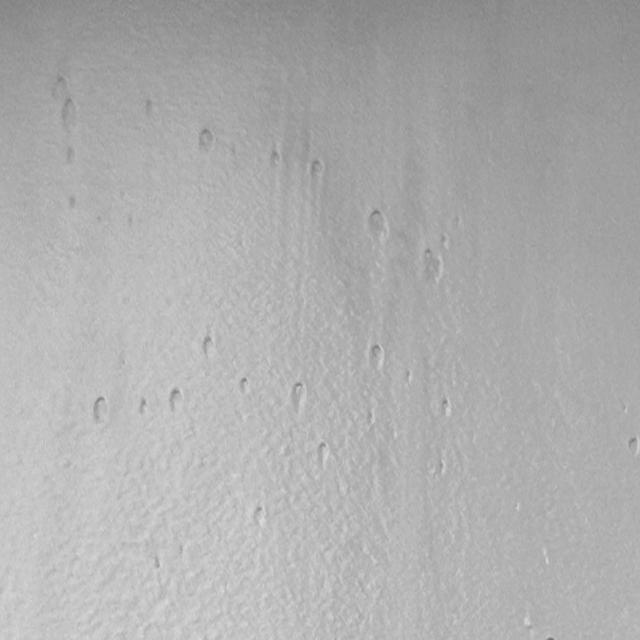pin holes: (365, 209, 390, 244), (419, 249, 444, 282), (89, 394, 113, 427), (286, 382, 308, 414), (58, 100, 79, 133), (197, 127, 218, 155), (166, 386, 187, 414), (311, 441, 332, 468), (368, 343, 388, 371), (266, 148, 286, 176), (199, 333, 218, 361), (142, 98, 162, 123), (310, 159, 328, 185), (249, 504, 268, 528), (438, 395, 455, 421), (137, 394, 153, 420), (62, 147, 80, 169), (432, 458, 449, 481), (625, 434, 640, 459), (65, 192, 82, 214), (238, 374, 254, 397), (53, 76, 70, 97), (439, 233, 453, 251), (403, 368, 415, 385)
